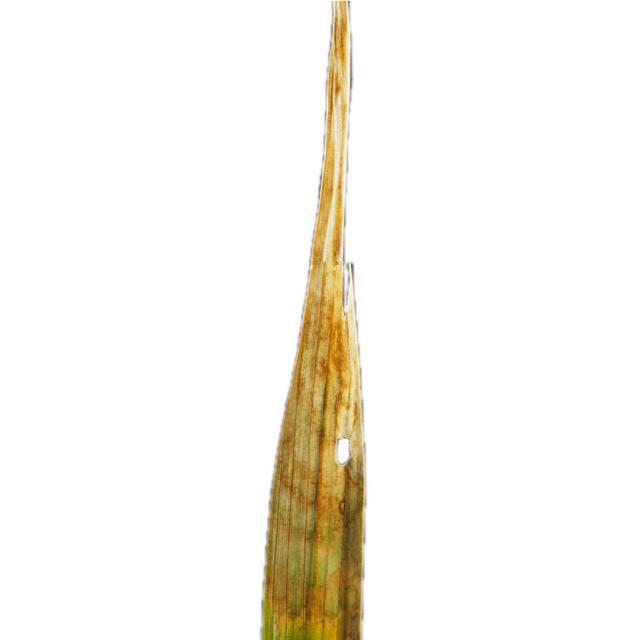Leaf scald: (186, 1, 522, 640)
